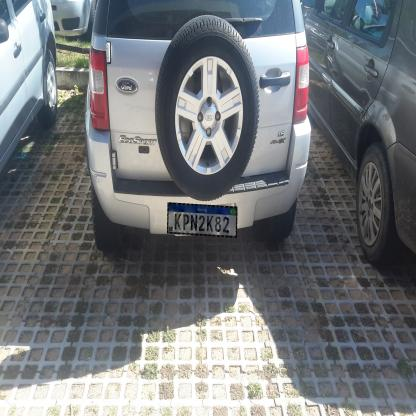PlacaM: (167, 202, 237, 238)
